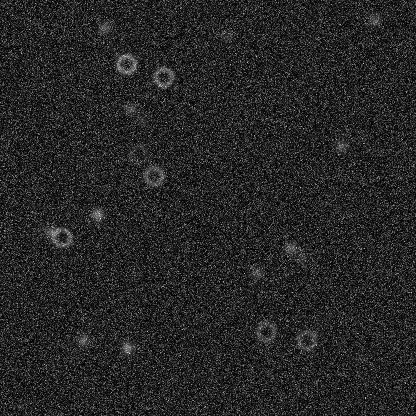Ring: (151, 64, 175, 88), (253, 319, 277, 343), (114, 51, 138, 75), (126, 141, 150, 165), (294, 328, 318, 352), (141, 163, 165, 187), (49, 225, 73, 249)
Spot: (283, 240, 299, 256), (119, 340, 135, 356), (293, 249, 309, 265), (42, 223, 58, 239), (89, 206, 105, 222), (249, 264, 265, 280), (121, 100, 137, 116), (366, 11, 382, 27), (74, 332, 90, 348), (134, 110, 150, 126), (353, 349, 369, 365), (333, 137, 349, 153), (356, 229, 372, 245), (219, 27, 235, 43), (96, 19, 112, 35)
